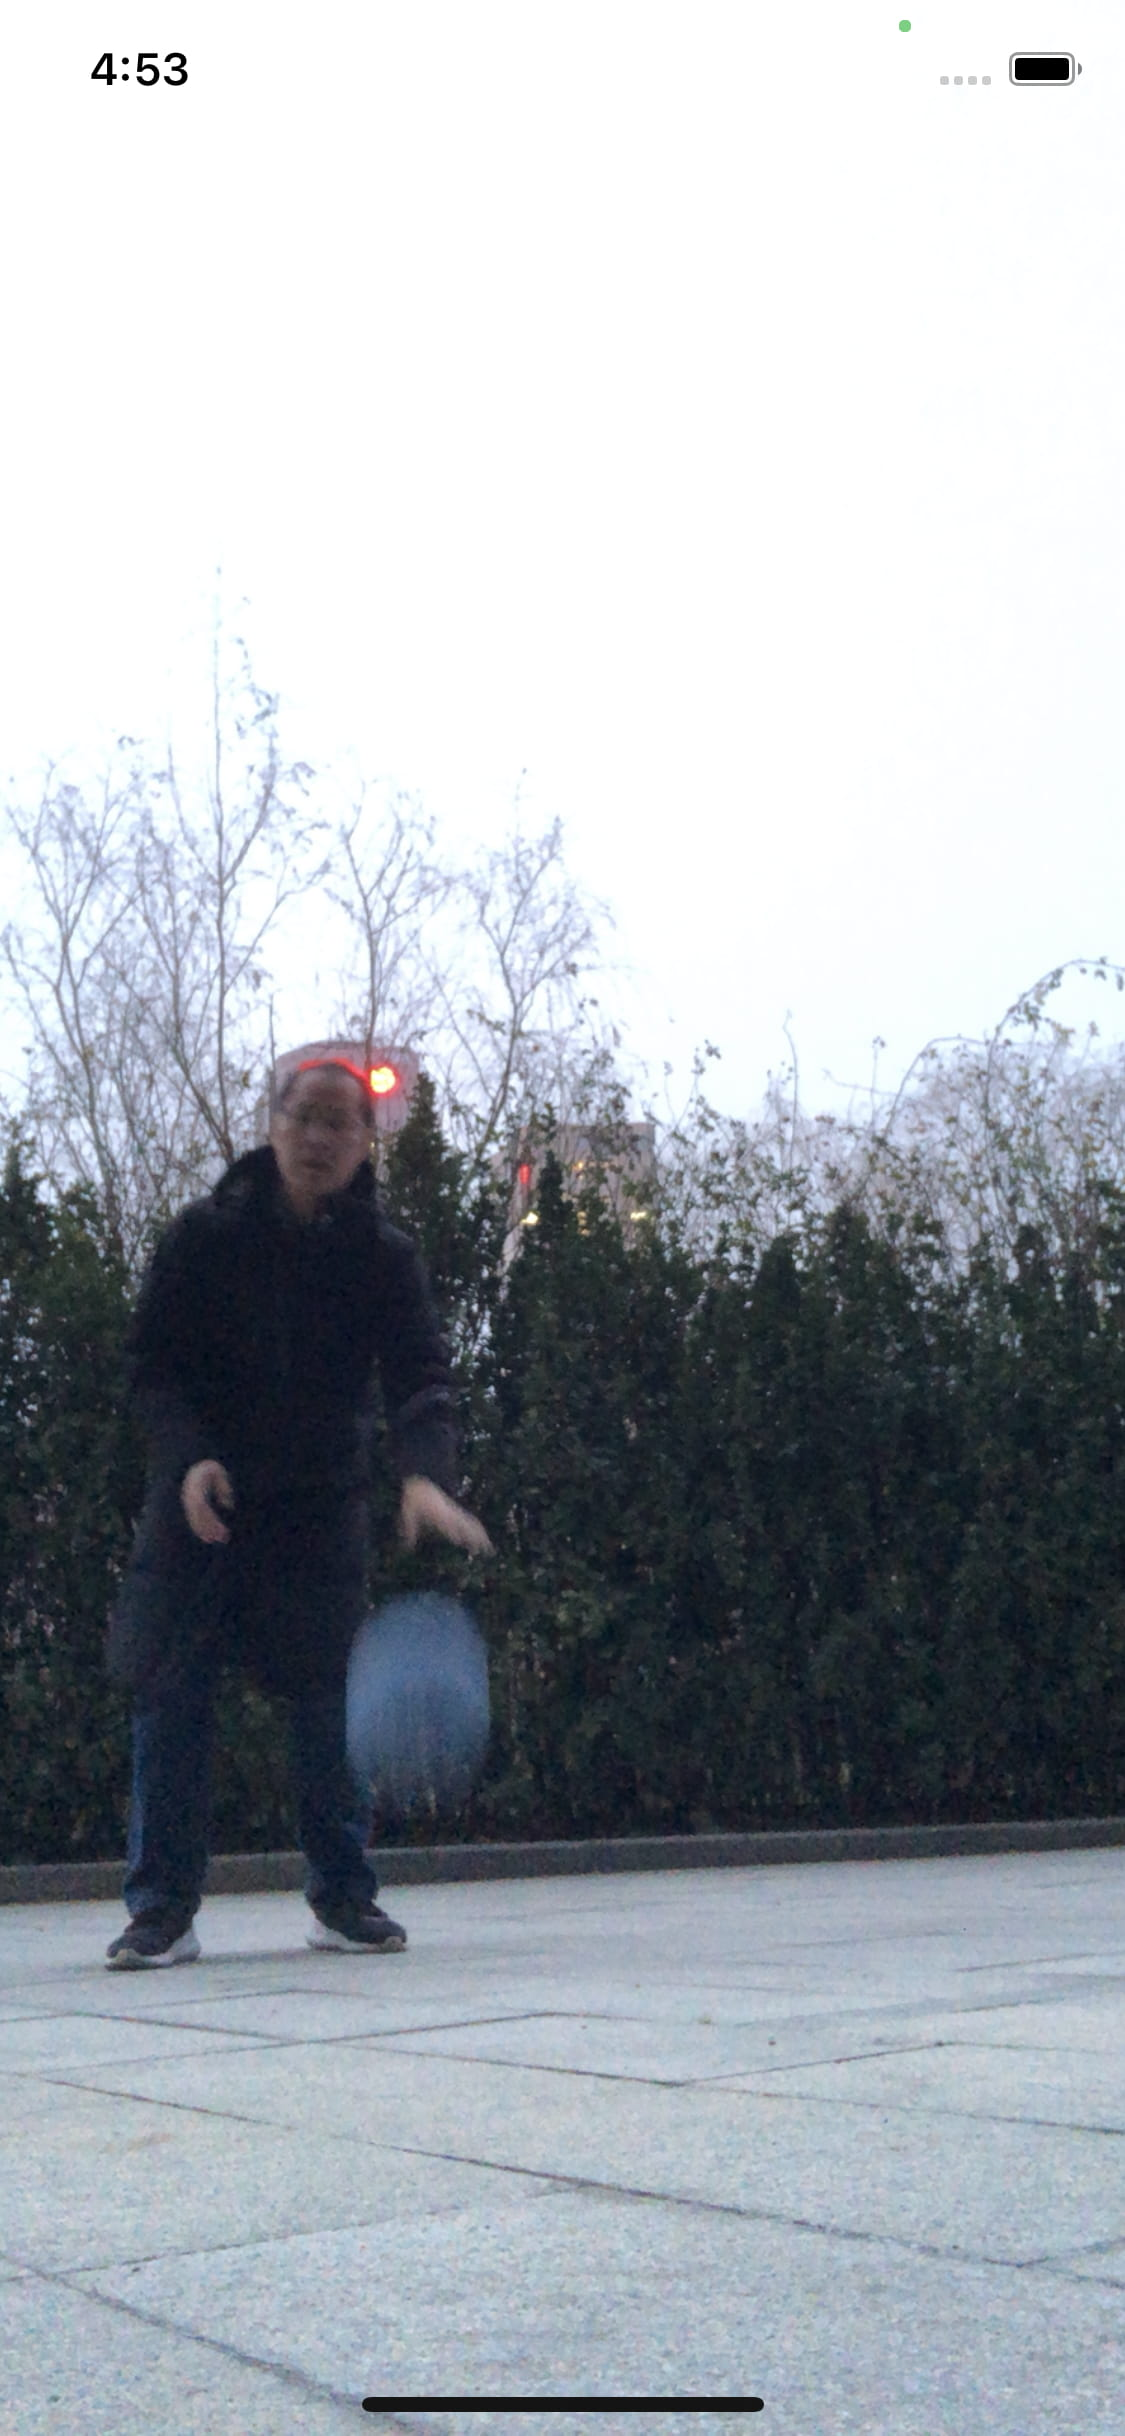ball: (340, 1594, 496, 1796)
